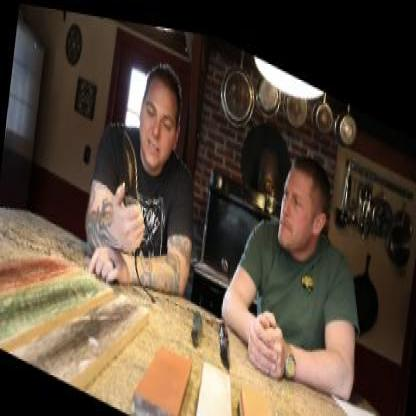knife: (109, 113, 158, 228)
